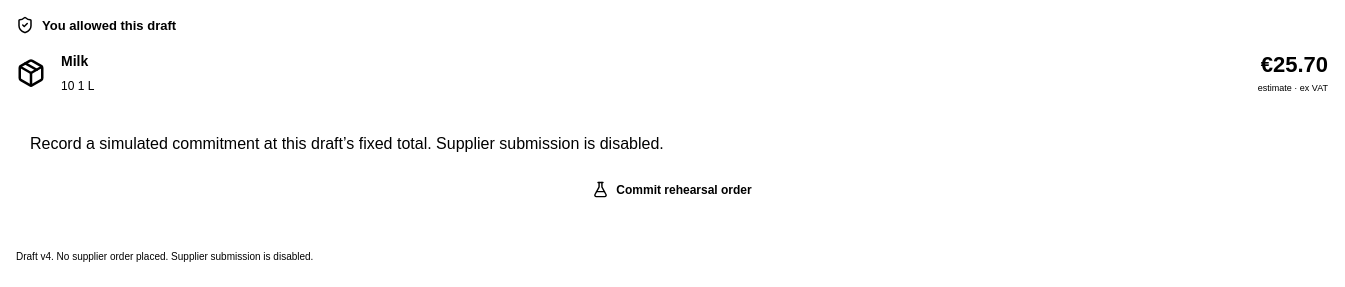
Test: commits only in rehearsal mode and recovers a receipt after a lost response
The width and height of the screenshot is (1345, 287).
Click the button "Commit rehearsal order".
click(672, 190)  # box [30,169,1314,210]
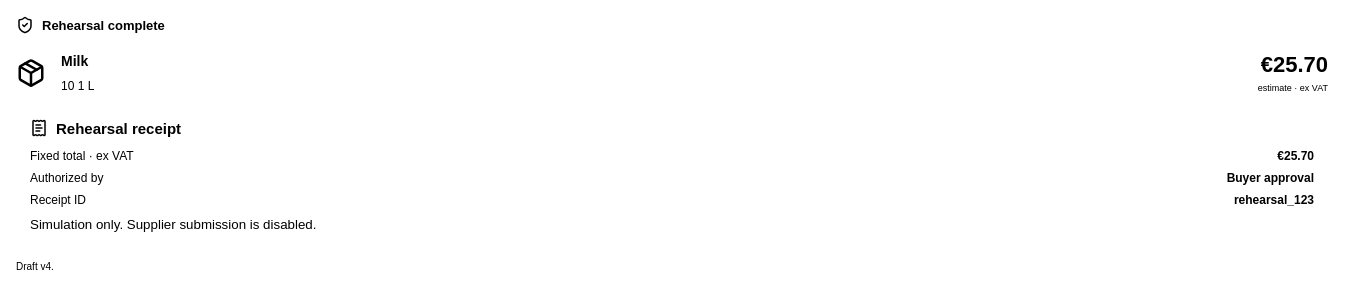
Expected: the text "Rehearsal receipt" is shown, [30,119,181,137]
Expected: the text "rehearsal_123" is shown, [1234,193,1314,207]
Expected: the text "Buyer approval" is shown, [1227,171,1314,185]
